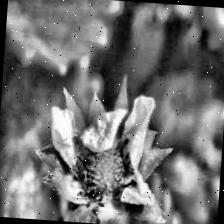Blossom Blight: (67, 134, 141, 212)
